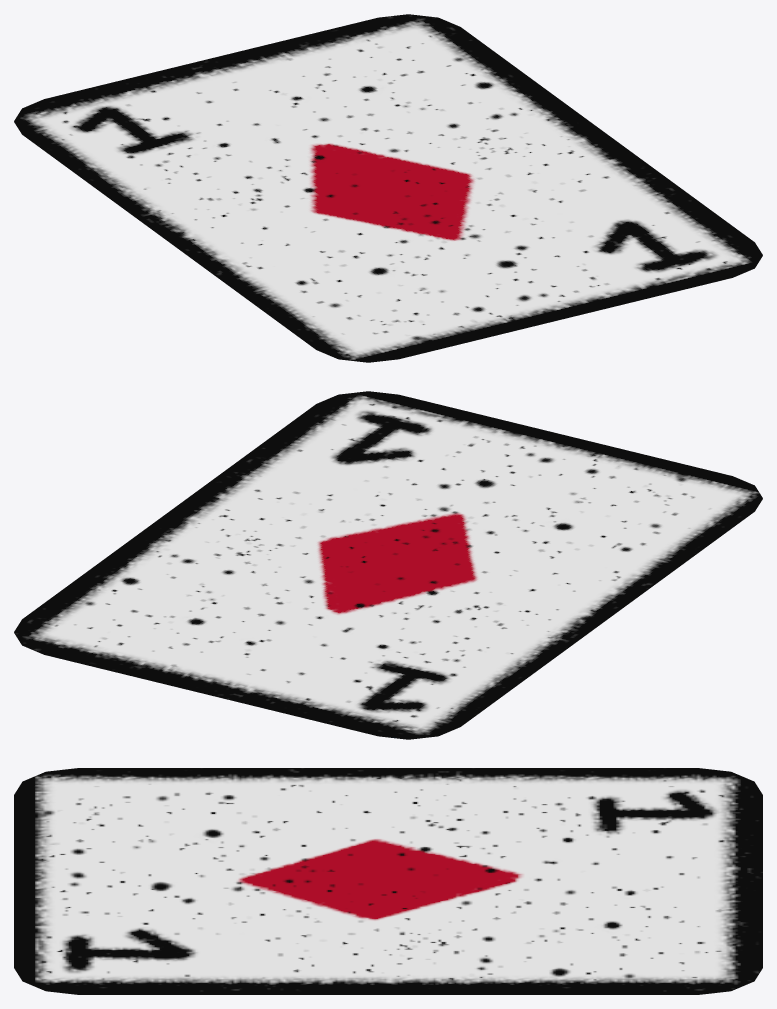
File: card.obj
The picture shows the model from 3 angles, top to bottom: view 1: azimuth 30°, elevation 25°; view 2: azimuth 150°, elevation 25°; view 3: azimuth 270°, elevation 25°; orthographic projection. The views are drawn at different scales.
Parts seen in each view (by area): view 1: Cube.001; view 2: Cube.001; view 3: Cube.001.
Boxes of the visible parts, x1,y1,x2,y2 form: Cube.001: (14, 14, 762, 362); Cube.001: (14, 391, 762, 739); Cube.001: (14, 768, 762, 994).
Bounding box in the file's own units: 2.09 × 0.00313 × 2.93.
